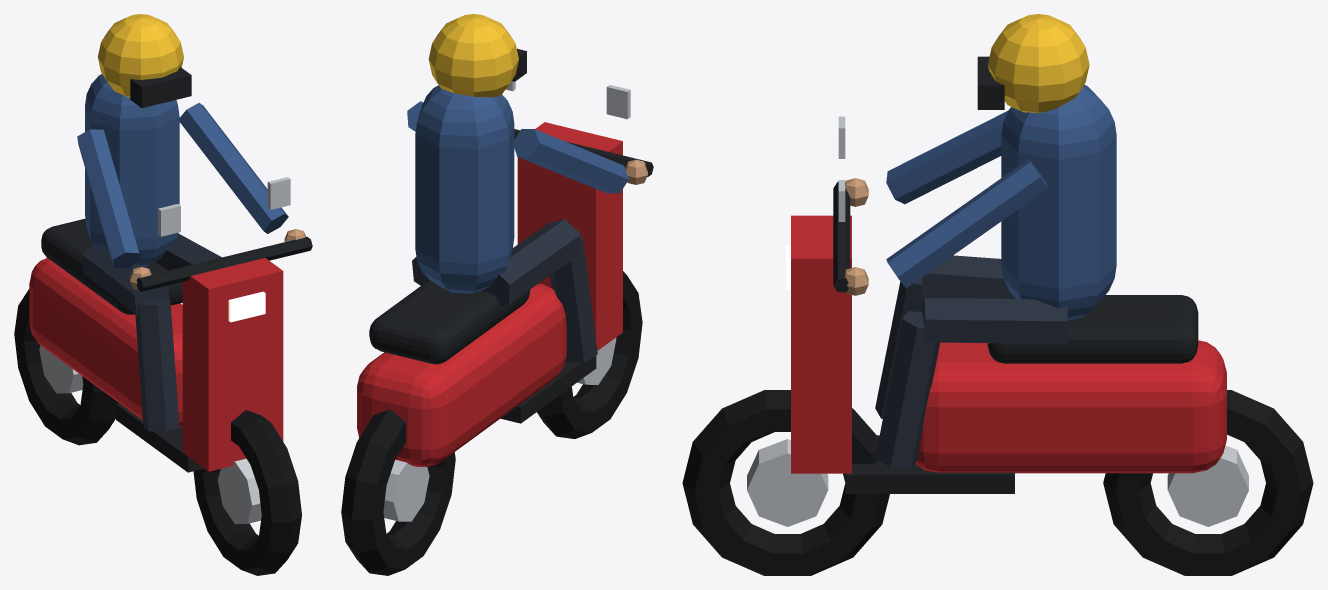
The model's file is motorbike_a.glb.
3 renders of one model, left to right at view 1: azimuth 30°, elevation 25°; view 2: azimuth 150°, elevation 25°; view 3: azimuth 270°, elevation 25°, orthographic. The views are drawn at different scales.
Parts seen in each view (by area): view 1: moto; view 2: moto; view 3: moto.
Part boxes in pixels (left/top/right/bottom): moto: left=14, top=14, right=312, bottom=575; moto: left=341, top=14, right=653, bottom=575; moto: left=682, top=14, right=1313, bottom=575.
Size of the model in its own units: 0.71 by 1.81 by 1.86.
